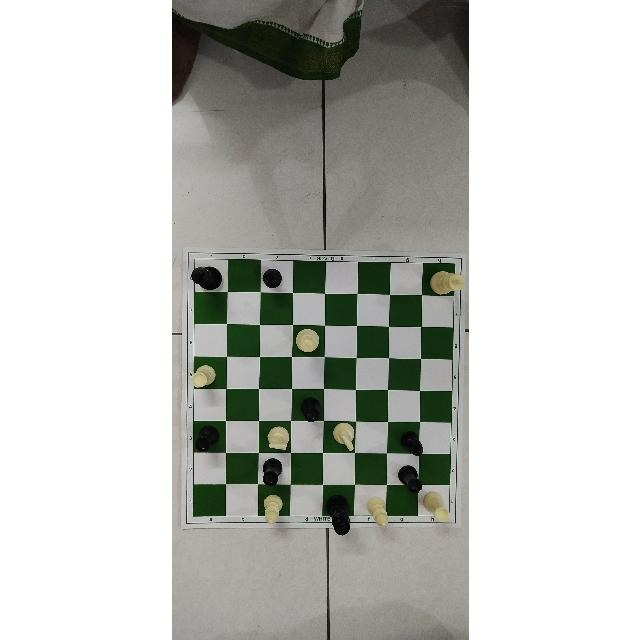black-bishop: (399, 430, 422, 455), (261, 268, 281, 288)
black-king: (190, 266, 221, 290)
black-queen: (325, 494, 349, 535)
black-rook: (396, 465, 421, 492), (193, 423, 218, 450), (261, 458, 283, 486), (300, 397, 320, 422)
white-bishop: (367, 497, 389, 527), (263, 494, 283, 523)
white-king: (429, 272, 465, 296)
white-knight: (331, 422, 354, 451), (266, 426, 288, 449)
white-queen: (295, 329, 319, 353)
white-rook: (422, 491, 449, 522), (191, 365, 215, 389)
